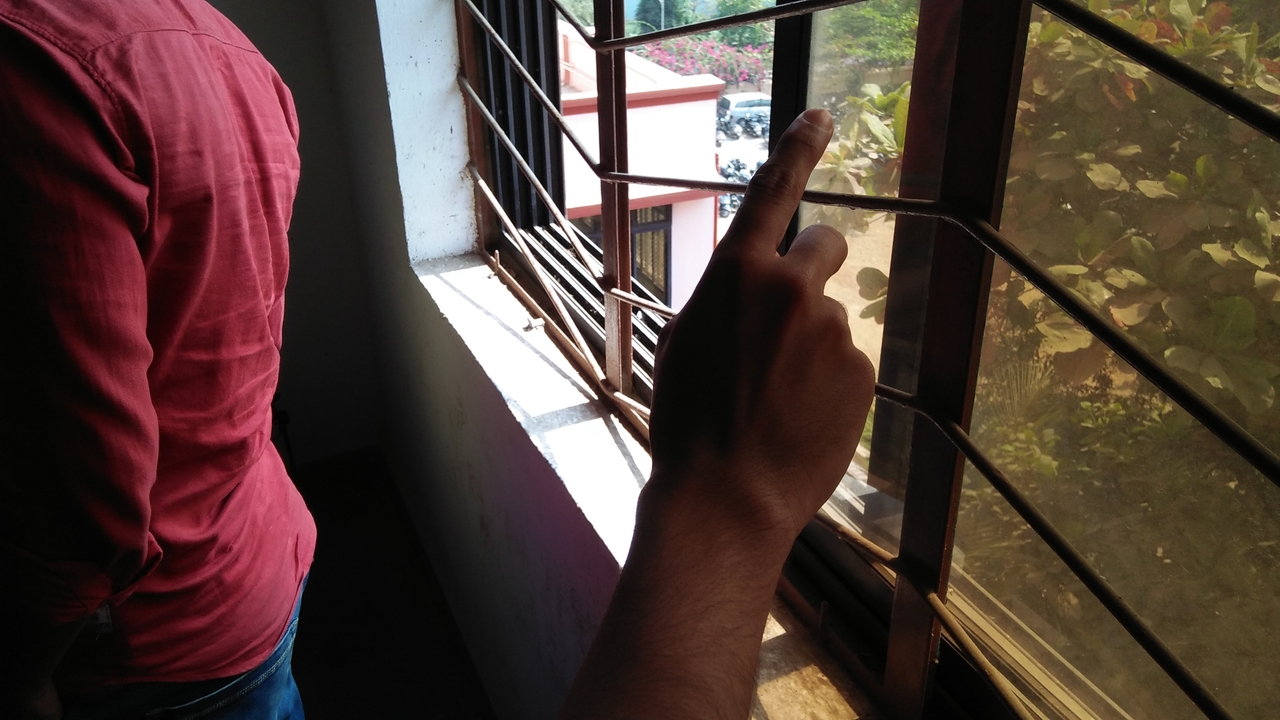fingertip: (784, 94, 840, 148)
